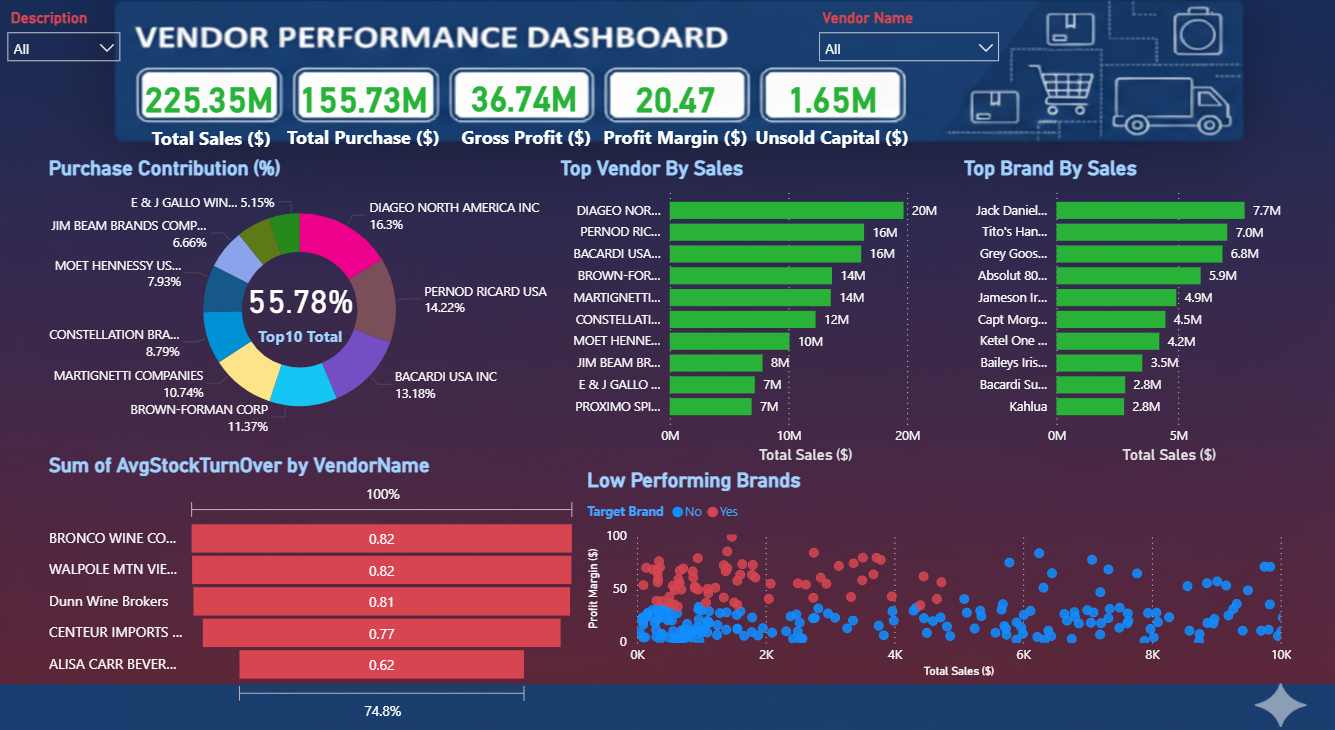

This screenshot's page, from the dashboard's own definition file:
{"tool":"powerbi","page":{"name":"Summary","canvas":[1280,720],"ordinal":0},"visuals":[{"type":"card","fields":{"Values":["Sum(vendor_sales_summary.TotalSalesDollars)"]},"box":[91.4,31.4,220,145.7],"z":0},{"type":"card","fields":{"Values":["Sum(vendor_sales_summary.TotalPurchaseDollars)"]},"box":[254.3,28.6,188.6,150],"z":1000},{"type":"card","fields":{"Values":["Sum(vendor_sales_summary.UnsoldCapital)"]},"box":[698.6,28.6,192.9,150],"z":2000},{"type":"card","fields":{"Values":["Sum(vendor_sales_summary.GrossProfit)"]},"box":[421.4,30,160,145.7],"z":3000},{"type":"card","fields":{"Values":["Avg(vendor_sales_summary.ProfitMargin)"]},"box":[557.1,30,177.1,147.1],"z":4000},{"type":"donutChart","title":"Purchase Contribution (%)","fields":{"Category":["PurchaseContribution.VendorName"],"Y":["Sum(PurchaseContribution.PurchaseContribution(%))"]},"box":[44.3,148.6,487.1,270],"z":5000},{"type":"barChart","title":"Top Vendor By Sales","fields":{"Category":["vendor_sales_summary.VendorName"],"Y":["Sum(vendor_sales_summary.TotalSalesDollars)"]},"box":[531.4,148.6,384.3,297.1],"z":6000},{"type":"barChart","title":"Top Brand By Sales","fields":{"Y":["Sum(vendor_sales_summary.TotalSalesDollars)"],"Category":["vendor_sales_summary.Description"]},"box":[915.7,148.6,321.4,297.1],"z":7000},{"type":"scatterChart","title":"Low Performing Brands","fields":{"X":["BrandPerformance.TotalSales"],"Y":["BrandPerformance.AvgProfitMargin"],"Series":["BrandPerformance.TargetBrand"]},"box":[557.1,445.7,680,204.3],"z":9000},{"type":"funnel","fields":{"Category":["LowTurnOverVendor.VendorName"],"Y":["Sum(LowTurnOverVendor.AvgStockTurnOver)"]},"box":[44.3,431.4,512.9,260],"z":10001},{"type":"card","fields":{"Values":["PurchaseContribution.Top10 Vendor Sales Sum"]},"box":[171.4,212.9,234.3,162.9],"z":10002},{"type":"slicer","fields":{"Values":["vendor_sales_summary.VendorName"]},"box":[772.9,2.9,191.4,57.1],"z":10003},{"type":"slicer","fields":{"Values":["vendor_sales_summary.Description"]},"box":[0,2.9,127.1,68.6],"z":10004}]}

Visuals, with their boxes in screenshot pixels (x1, y1, x2, y2), scaled from the page's 1280x720 canvas onto the 1335x730 screenshot:
card - Sum(vendor_sales_summary.TotalSalesDollars): Rect(95, 32, 325, 180)
card - Sum(vendor_sales_summary.TotalPurchaseDollars): Rect(265, 29, 462, 181)
card - Sum(vendor_sales_summary.UnsoldCapital): Rect(729, 29, 930, 181)
card - Sum(vendor_sales_summary.GrossProfit): Rect(440, 30, 606, 178)
card - Avg(vendor_sales_summary.ProfitMargin): Rect(581, 30, 766, 180)
"Purchase Contribution (%)" donutChart: Rect(46, 151, 554, 424)
"Top Vendor By Sales" barChart: Rect(554, 151, 955, 452)
"Top Brand By Sales" barChart: Rect(955, 151, 1290, 452)
"Low Performing Brands" scatterChart: Rect(581, 452, 1290, 659)
funnel - LowTurnOverVendor.VendorName x Sum(LowTurnOverVendor.AvgStockTurnOver): Rect(46, 437, 581, 701)
card - PurchaseContribution.Top10 Vendor Sales Sum: Rect(179, 216, 423, 381)
slicer - vendor_sales_summary.VendorName: Rect(806, 3, 1006, 61)
slicer - vendor_sales_summary.Description: Rect(0, 3, 133, 72)
